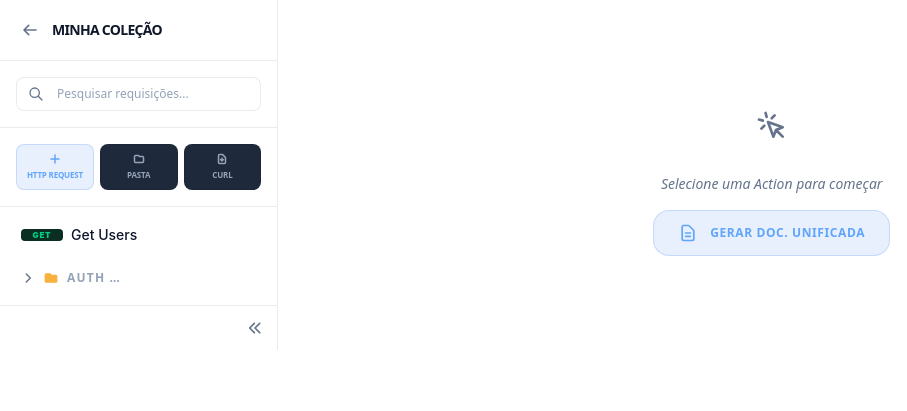
Test case: CollectionView › should allow expanding/collapsing folders
Click the text "Auth Folder". click: (95, 278)
box: [67, 270, 122, 286]
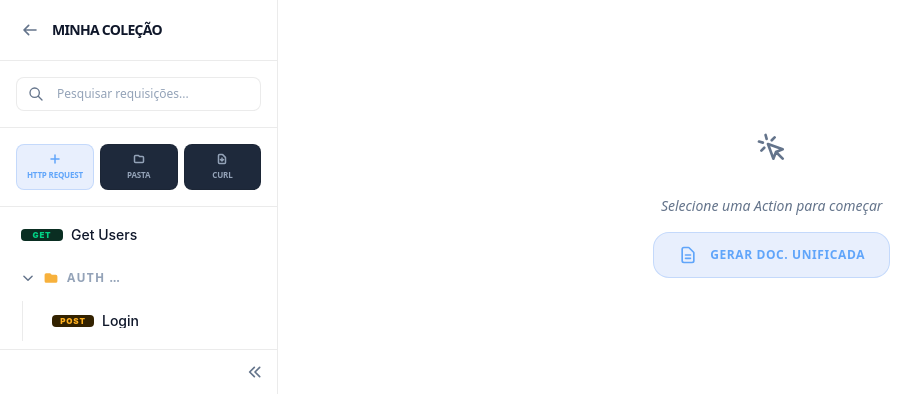
Expected: the text "Login" is shown, [102, 312, 139, 329]
